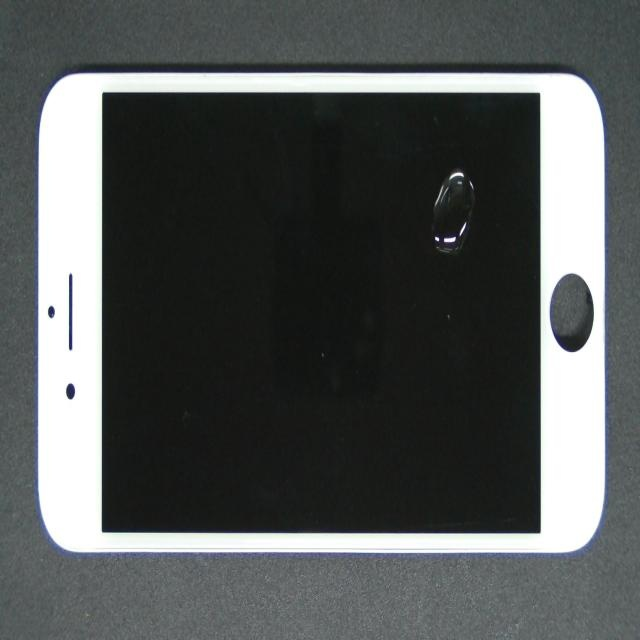oil: (252, 90, 640, 262)
